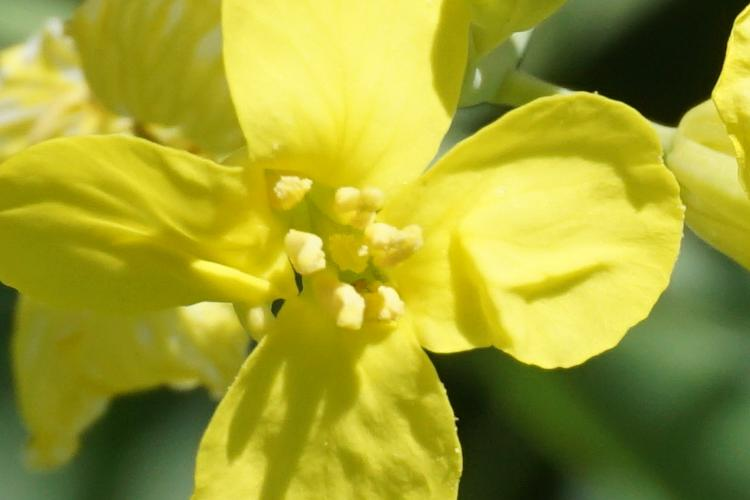yellow: (9, 7, 652, 500)
